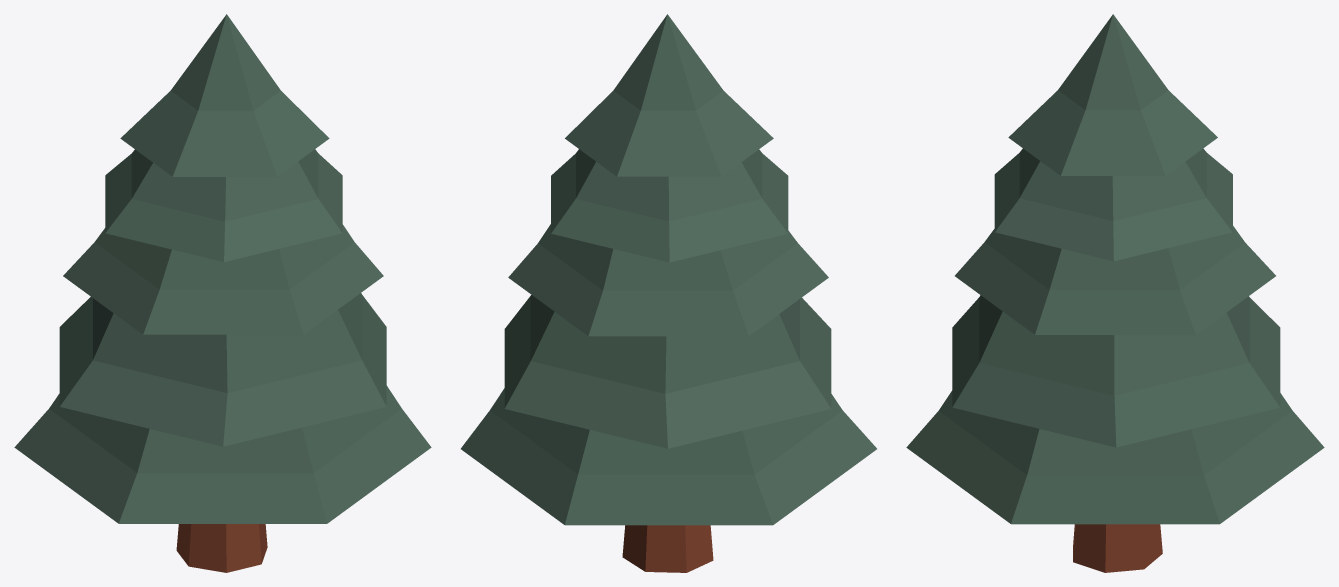
File: Spruce.fbx
3 renders of one model, left to right at view 1: azimuth 30°, elevation 25°; view 2: azimuth 150°, elevation 25°; view 3: azimuth 270°, elevation 25°, orthographic.
Visible parts, largest first — view 1: Leaves, Log; view 2: Leaves, Log; view 3: Leaves, Log.
Part boxes in pixels (x1,y1,x2,y2): Leaves: (14,14,431,523); Log: (176,524,267,572); Leaves: (461,14,876,525); Log: (622,525,713,572); Leaves: (906,14,1324,524); Log: (1073,524,1162,572).
Size of the model in its own units: 2.43 by 3.82 by 2.68.
